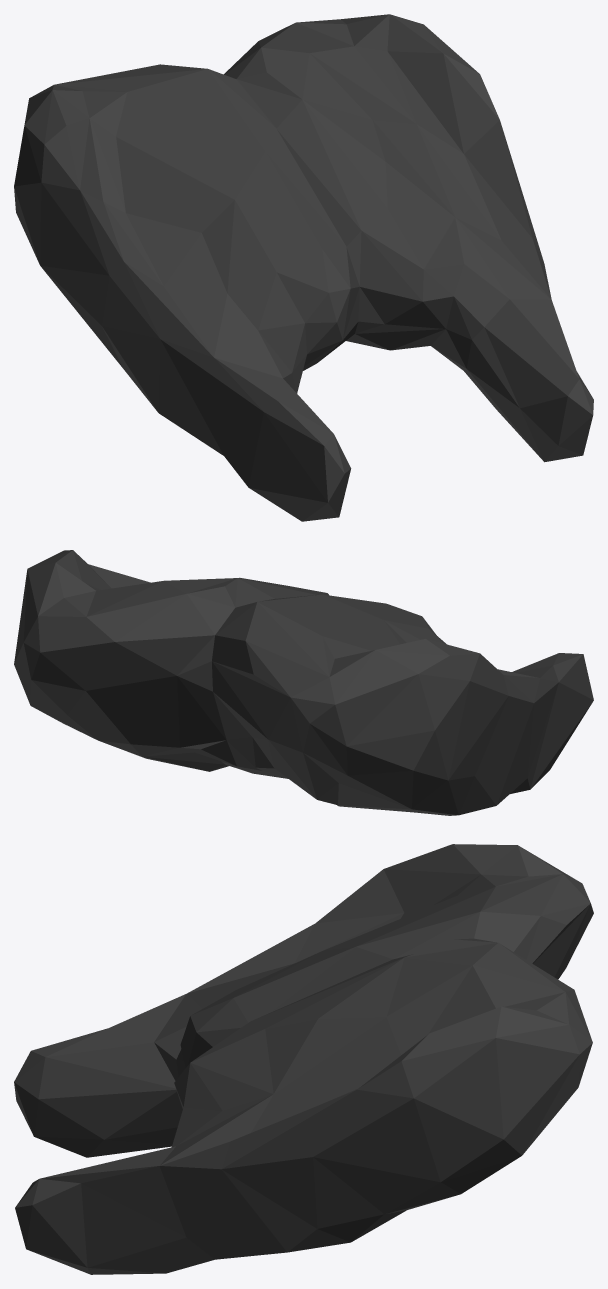
File: lymph_nodes_mandib.glb
3 renders of one model, top to bottom at view 1: azimuth 30°, elevation 25°; view 2: azimuth 150°, elevation 25°; view 3: azimuth 270°, elevation 25°, orthographic.
Visible parts, largest first — view 1: lymph_nodes_mandib; view 2: lymph_nodes_mandib; view 3: lymph_nodes_mandib.
Part boxes in pixels (box(x1,y1,x2,y2)): lymph_nodes_mandib: box(14, 14, 593, 521); lymph_nodes_mandib: box(14, 550, 593, 815); lymph_nodes_mandib: box(14, 844, 593, 1274).
Bounding box in the file's own units: 0.00105 × 0.000664 × 0.0012.
Materials: 1 (1 with a texture image).
